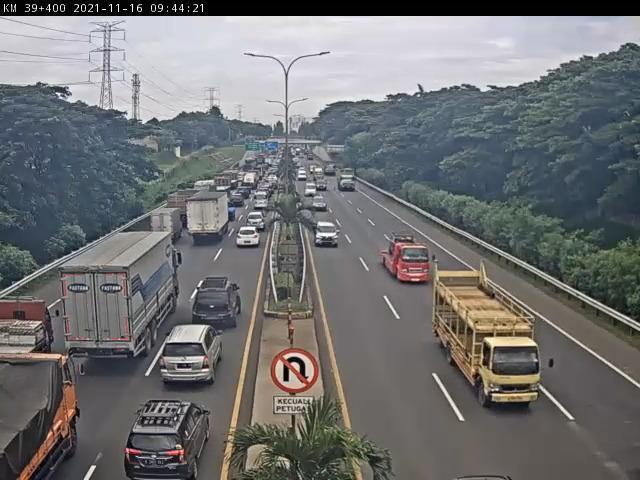car: (128, 399, 206, 477), (159, 326, 221, 386), (196, 277, 243, 325), (318, 225, 341, 246), (238, 228, 261, 247), (248, 213, 267, 230), (256, 193, 271, 210), (314, 196, 328, 212), (307, 183, 320, 196), (232, 194, 244, 204), (319, 179, 328, 192), (299, 171, 308, 180)
truck: (435, 262, 543, 412), (66, 229, 181, 358), (1, 352, 73, 480), (2, 299, 61, 360), (382, 238, 437, 288), (189, 193, 233, 247), (154, 209, 181, 239), (340, 170, 358, 192), (244, 173, 259, 189), (324, 162, 339, 177), (315, 167, 328, 181)
